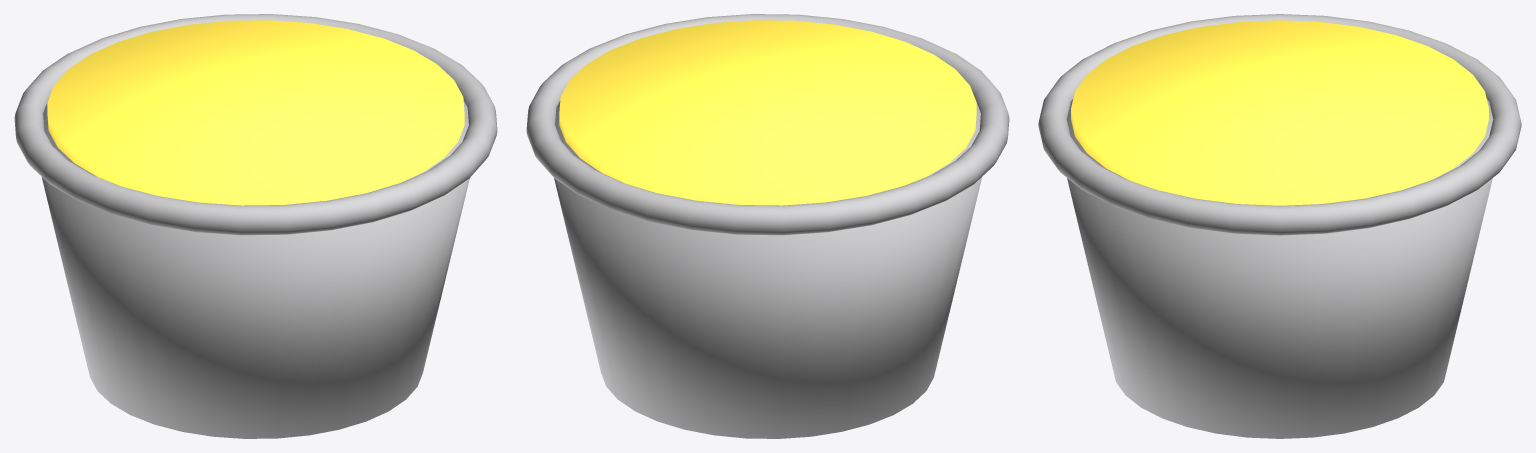
Rendered from honey_mustard_cup.glb.
The picture shows the model from 3 angles, left to right: view 1: azimuth 30°, elevation 25°; view 2: azimuth 150°, elevation 25°; view 3: azimuth 270°, elevation 25°; orthographic projection.
Visible parts, largest first — view 1: JoinedAsset; view 2: JoinedAsset; view 3: JoinedAsset.
Boxes of the visible parts, x1=… form: JoinedAsset: x1=14, y1=14, x2=497, y2=438; JoinedAsset: x1=526, y1=14, x2=1009, y2=438; JoinedAsset: x1=1038, y1=14, x2=1521, y2=438.
Size of the model in its own units: 0.81 by 0.48 by 0.81.
